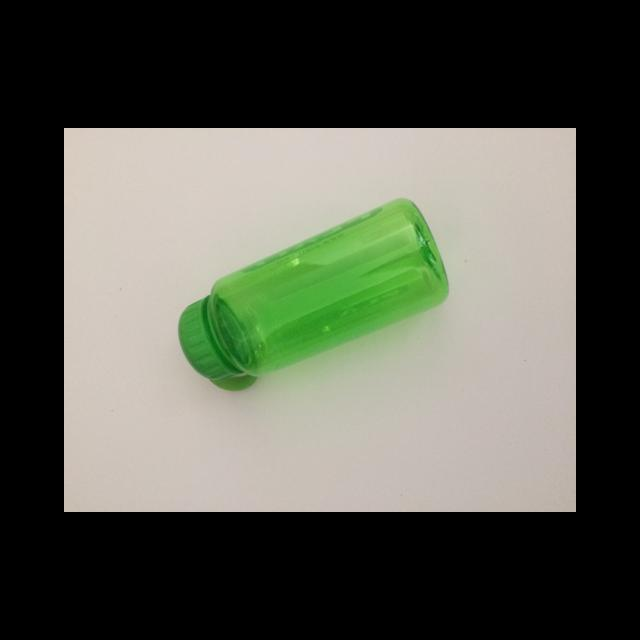plastic: (207, 197, 449, 364), (177, 295, 256, 391)
